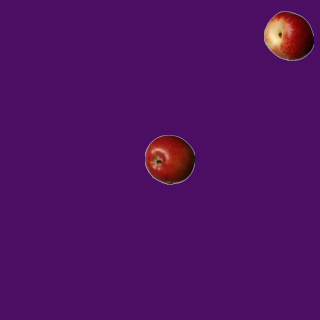Apple Braeburn: (144, 134, 194, 184)
Nectarine: (263, 10, 313, 60)
